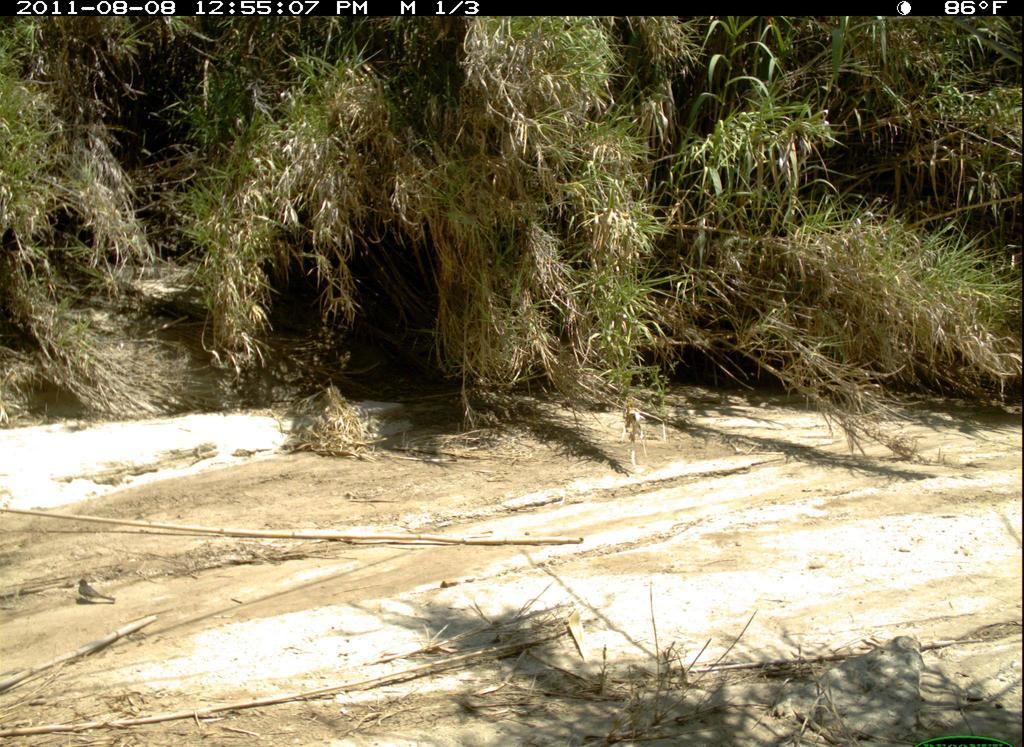bird: (71, 573, 122, 611)
